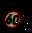Speed Limit -60-: (0, 5, 27, 32)
